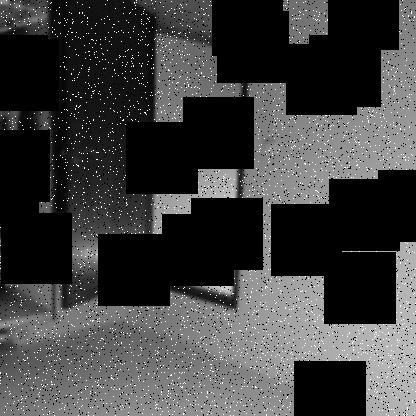Porte: (52, 1, 257, 311)
